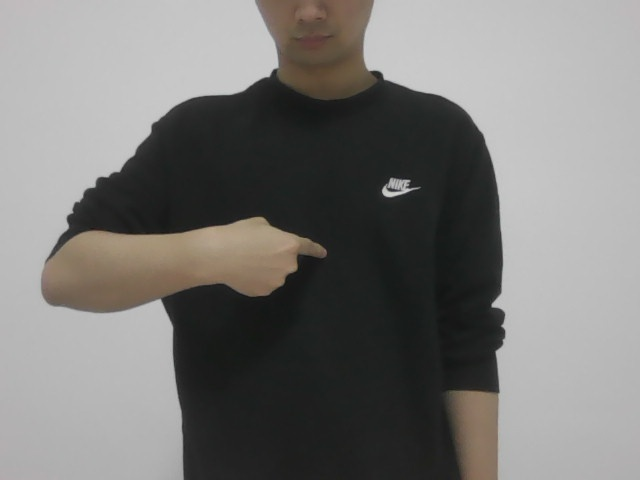I/me: (212, 216, 334, 303)
